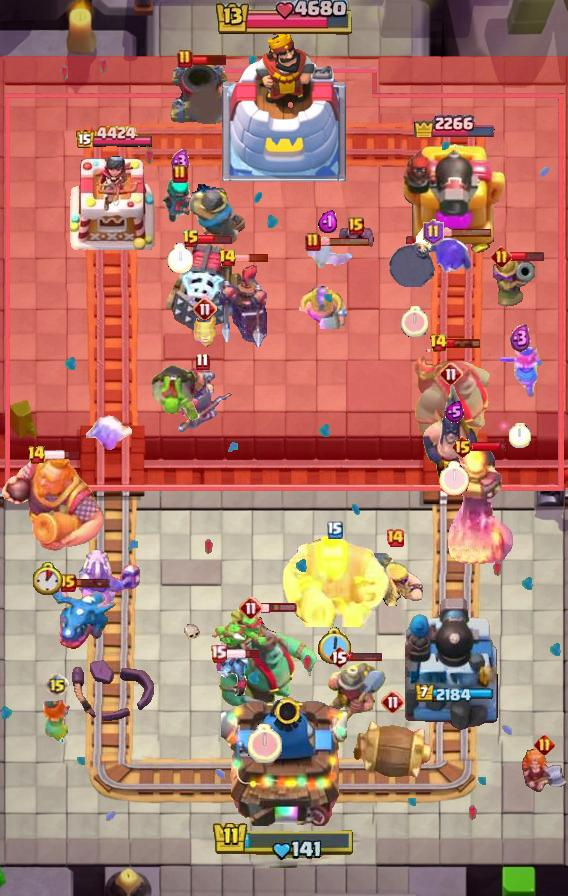bar: (319, 236, 371, 247), (441, 227, 493, 238), (191, 53, 228, 66), (225, 648, 262, 660), (261, 602, 298, 614), (74, 577, 111, 589), (44, 449, 81, 461), (471, 441, 507, 453), (510, 250, 545, 262), (198, 233, 233, 245), (348, 651, 383, 662), (446, 338, 481, 349), (234, 253, 269, 263)
bar-level: (381, 690, 405, 714), (45, 673, 69, 697), (239, 596, 263, 620), (439, 362, 463, 386), (193, 297, 217, 321), (451, 435, 474, 459), (423, 219, 444, 245), (328, 645, 350, 669), (534, 734, 555, 755), (491, 246, 512, 267), (385, 528, 405, 548), (27, 445, 46, 465), (429, 333, 448, 353), (218, 248, 237, 268), (182, 229, 200, 249), (210, 644, 227, 663), (305, 232, 321, 252), (172, 164, 188, 184), (177, 49, 193, 69), (60, 574, 76, 592), (327, 521, 343, 539), (348, 217, 364, 235), (195, 352, 210, 371)
barbarian-barrel: (351, 718, 435, 780)
barbarian-evolution: (367, 553, 423, 606)
bat: (336, 225, 376, 251)
bat-evolution: (303, 243, 353, 271)
bomb: (388, 225, 440, 287)
cannoneer-tower: (405, 595, 501, 731), (399, 138, 507, 256)
clock: (318, 627, 353, 667), (248, 724, 282, 763), (439, 461, 469, 496), (33, 562, 63, 595), (401, 306, 428, 337), (167, 243, 193, 273), (509, 423, 531, 448)
electro-dragon: (47, 582, 117, 650)
electro-spirit: (429, 236, 471, 276)
elite-barbarian: (298, 286, 347, 329)
elixir: (510, 324, 531, 353), (318, 210, 339, 234), (171, 149, 190, 175), (445, 401, 464, 423)
executioner: (422, 380, 480, 480)
goblin-ball: (149, 362, 199, 422)
ice-spirit-evolution: (86, 414, 136, 452)
king-tower: (222, 31, 346, 181), (221, 690, 347, 826)
king-tower-bar: (212, 820, 356, 862), (213, 0, 355, 38)
knight: (187, 184, 245, 245)
lava-pup: (191, 312, 219, 348)
miner: (326, 655, 388, 727)
minion: (209, 650, 253, 696)
mortar: (168, 59, 230, 127)
musketeer: (493, 254, 535, 322)
queen-tower: (67, 152, 161, 256)
rascal-girl: (160, 175, 200, 225)
tower-bar: (411, 109, 495, 137), (75, 125, 154, 151), (414, 684, 493, 704)
valkyrie: (496, 345, 544, 399), (518, 745, 568, 795), (38, 695, 76, 747)
